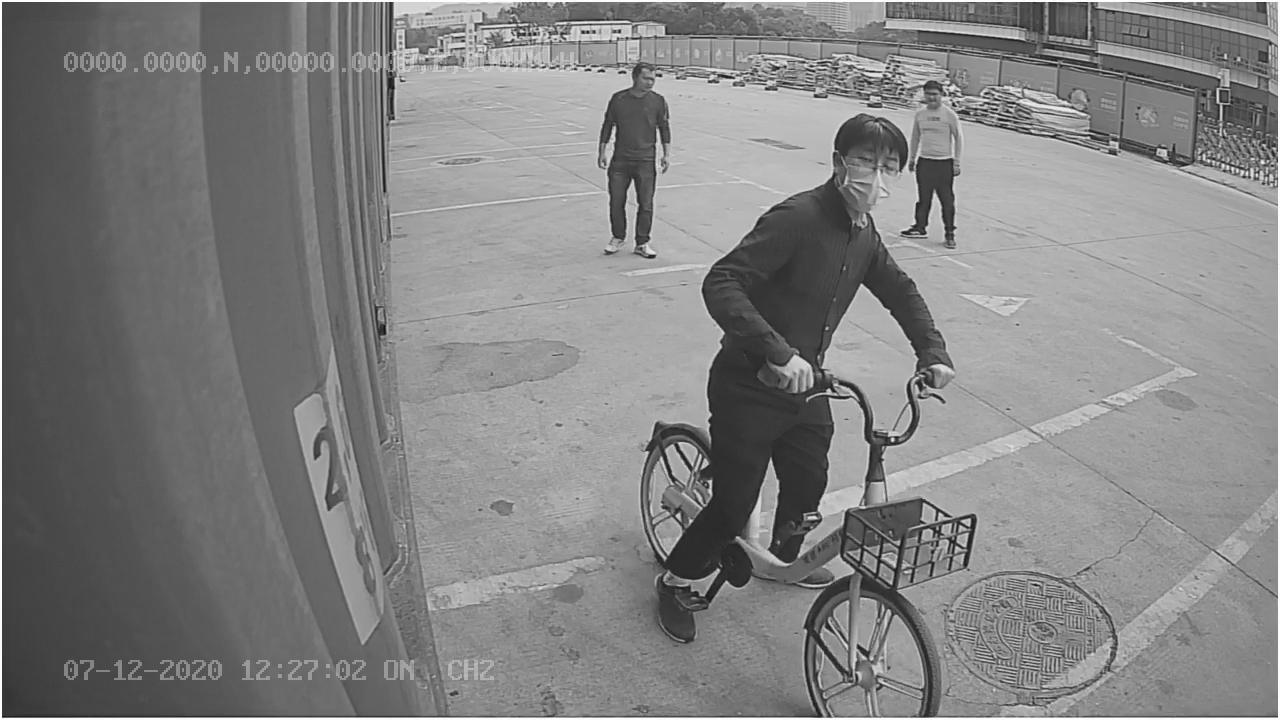person: (594, 60, 672, 265)
